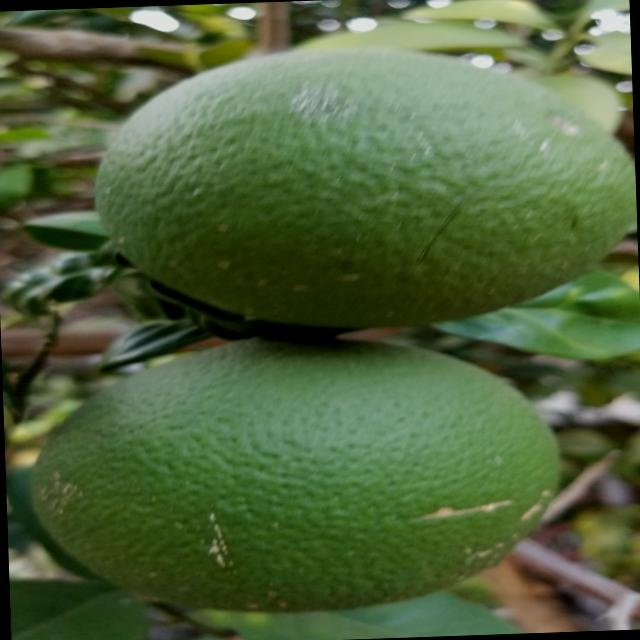agrume: (82, 34, 640, 346), (20, 320, 582, 625)
